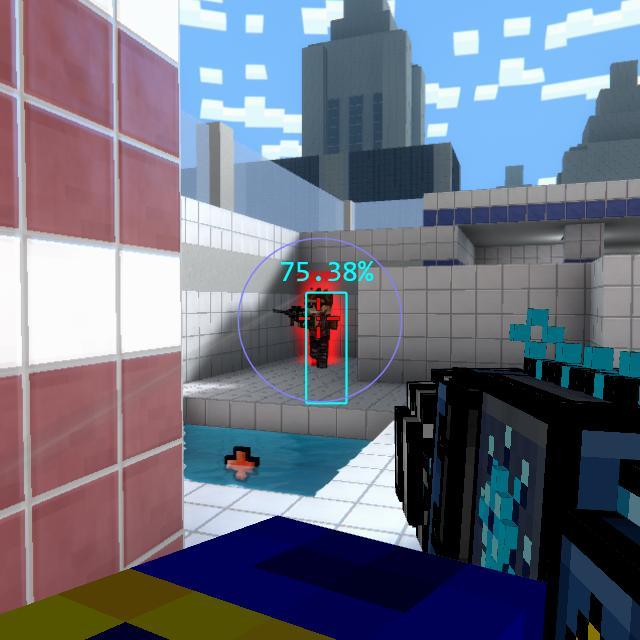Enemy: (294, 289, 341, 364)
